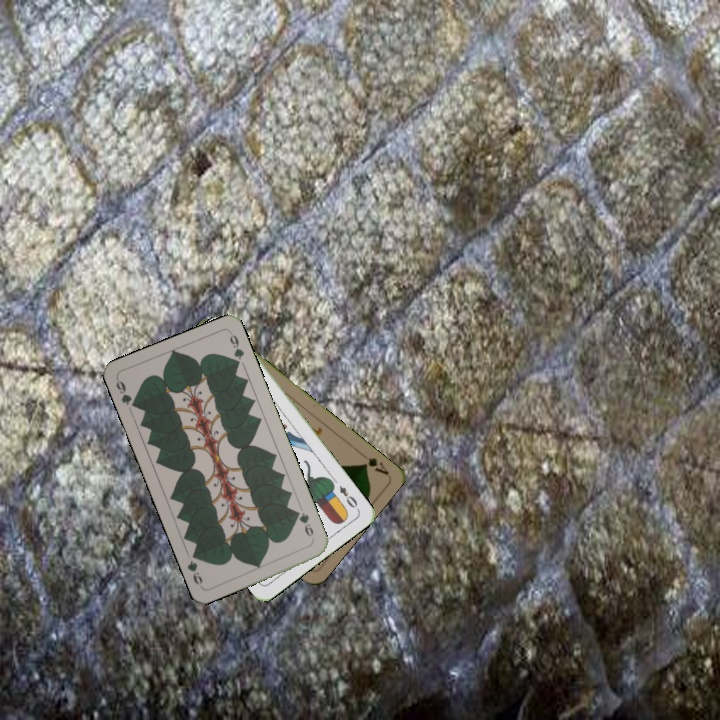EO: (335, 482, 362, 513)
G9: (112, 375, 140, 411), (291, 507, 317, 543)
GA: (355, 448, 391, 477)
